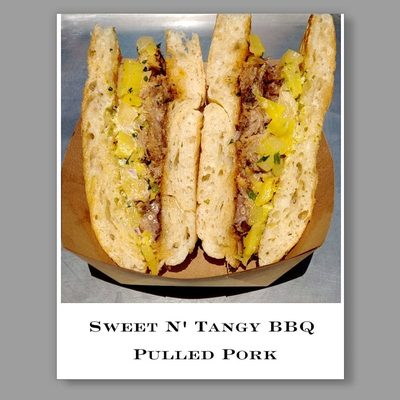soup: (80, 27, 205, 278)
